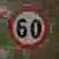limite 60: (7, 4, 50, 50)
